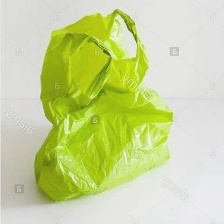plastic_bag: (30, 6, 175, 203)
